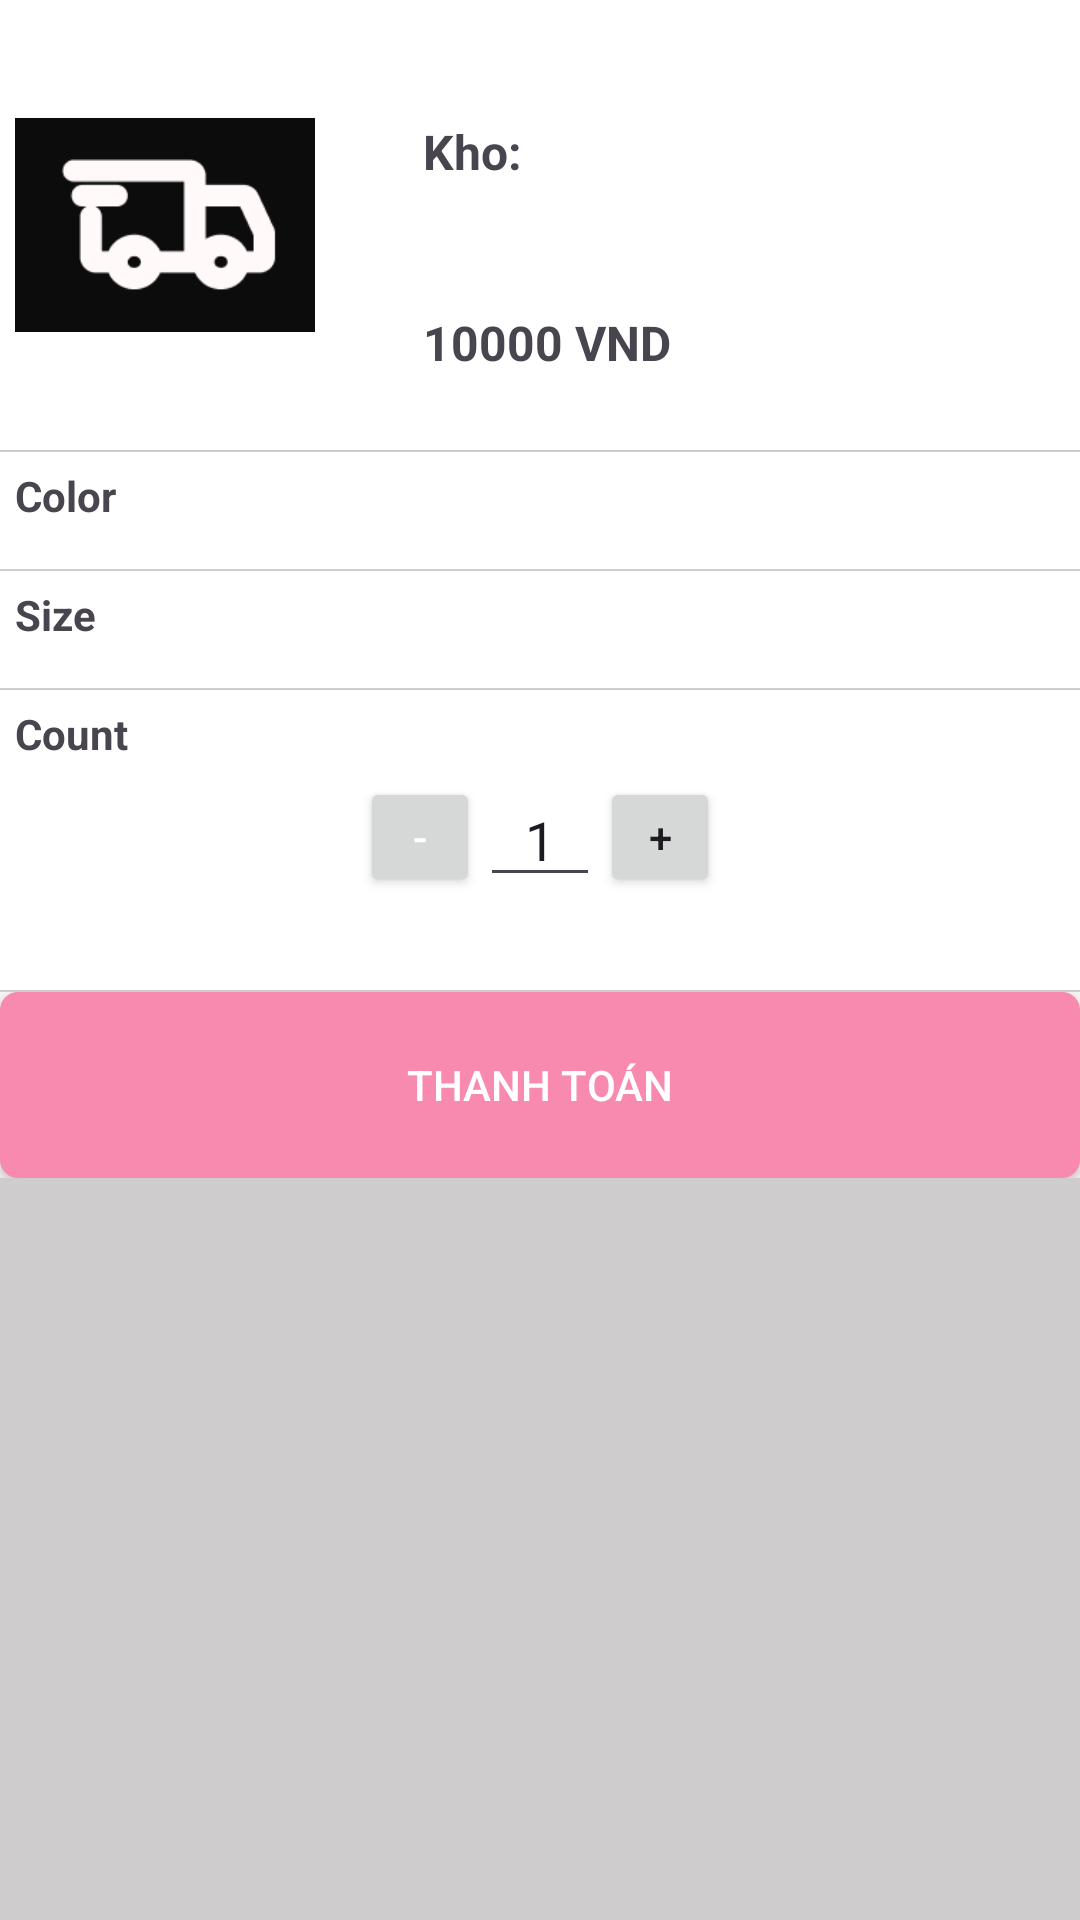

Named icons in this screenshot (1080x1920) and their bounding boxes, (x1, y1, x2, y2):
car: (15, 118, 315, 332)
